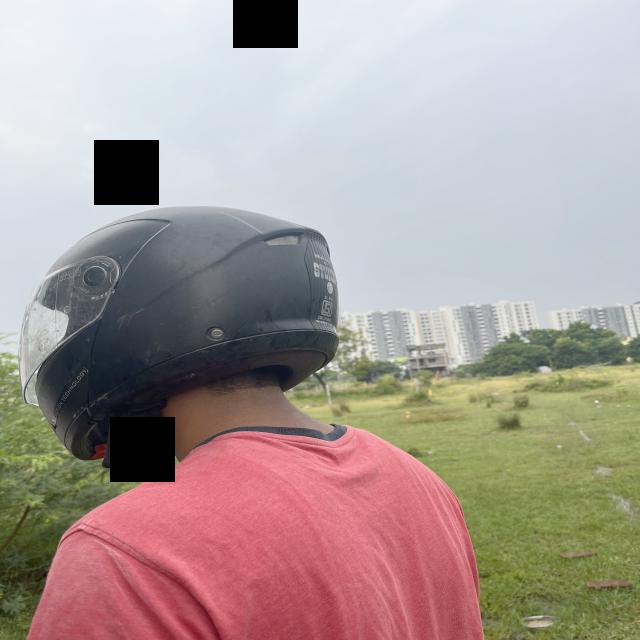Helmet: (20, 208, 338, 468)
